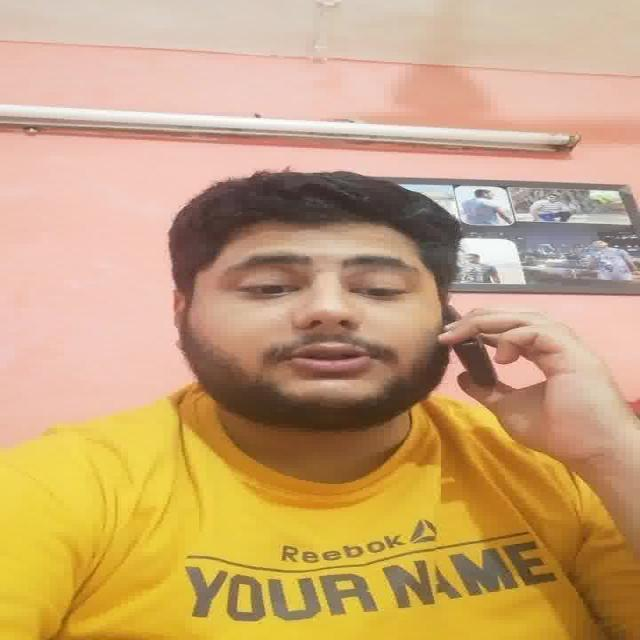Phone: (453, 324, 501, 393)
